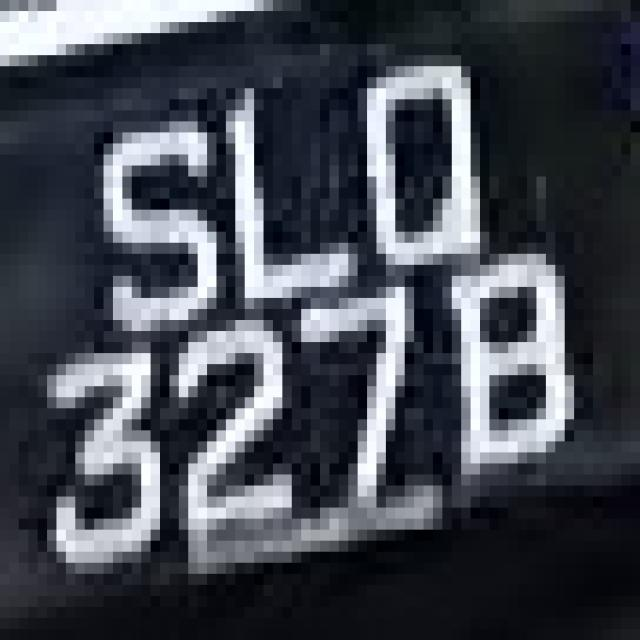2: (150, 309, 292, 563)
3: (29, 331, 170, 585)
7: (282, 264, 414, 518)
B: (442, 232, 602, 508)
L: (216, 66, 376, 331)
Q: (339, 44, 508, 298)
S: (85, 100, 254, 386)
